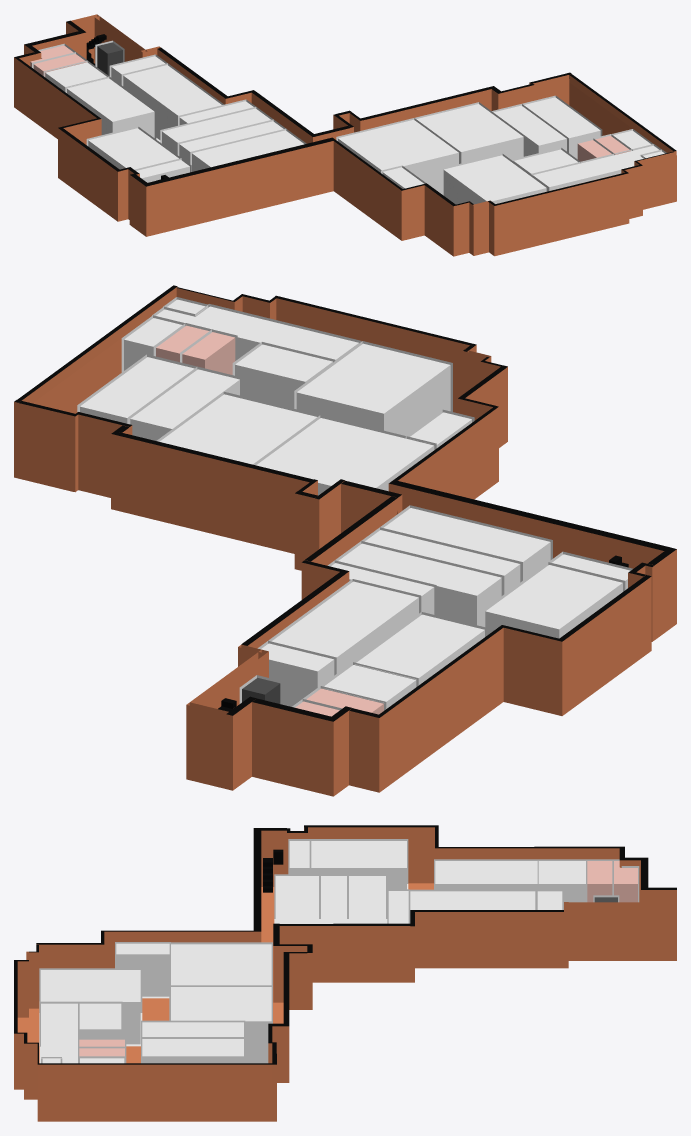
3 renders of one model, top to bottom at view 1: azimuth 30°, elevation 25°; view 2: azimuth 150°, elevation 25°; view 3: azimuth 270°, elevation 25°, orthographic. The views are drawn at different scales.
Parts seen in each view (by area): view 1: object, room_1_B1_3, room_1_B1_4, room_1_B1_5, room_1_B1_19, room_1_B1_11, room_1_B1_15, room_1_B1_1, room_1_B1_12, room_1_B1_2, room_1_B1_6, room_1_B1_17 (+10 smaller); view 2: object, room_1_B1_5, room_1_B1_3, room_1_B1_19, room_1_B1_15, room_1_B1_4, room_1_B1_17, room_1_B1_11, room_1_B1_12, room_1_B1_1, room_1_B1_9, room_1_B1_8 (+11 smaller); view 3: object, room_1_B1_4, room_1_B1_3, room_1_B1_5, room_1_B1_15, room_1_B1_11, room_1_B1_2, room_1_B1_19, room_1_B1_13, room_1_B1_1, room_1_B1_12, room_1_B1_17 (+12 smaller).
Part boxes in pixels (x1,y1,x2,y2): object: (14, 14, 676, 256); room_1_B1_3: (338, 119, 458, 193); room_1_B1_4: (416, 104, 523, 163); room_1_B1_5: (443, 155, 546, 204); room_1_B1_19: (123, 65, 221, 139); room_1_B1_11: (67, 78, 154, 137); room_1_B1_15: (88, 128, 178, 169); room_1_B1_1: (533, 145, 658, 191); room_1_B1_12: (192, 130, 304, 171); room_1_B1_2: (524, 97, 600, 157); room_1_B1_6: (493, 105, 566, 156); room_1_B1_17: (162, 108, 270, 154); object: (14, 285, 676, 796); room_1_B1_5: (296, 343, 450, 435); room_1_B1_3: (256, 418, 434, 495); room_1_B1_19: (271, 581, 418, 673); room_1_B1_15: (485, 565, 622, 638); room_1_B1_4: (159, 394, 317, 464); room_1_B1_17: (338, 543, 501, 626); room_1_B1_11: (354, 614, 484, 686); room_1_B1_12: (384, 508, 550, 580); room_1_B1_1: (156, 306, 358, 360); room_1_B1_9: (261, 563, 434, 706); room_1_B1_8: (235, 344, 332, 408); object: (14, 825, 676, 1121); room_1_B1_4: (171, 987, 271, 1063); room_1_B1_3: (171, 944, 271, 985); room_1_B1_5: (40, 970, 140, 1044); room_1_B1_15: (311, 841, 406, 889); room_1_B1_11: (435, 861, 537, 889); room_1_B1_2: (142, 1039, 243, 1063); room_1_B1_19: (410, 891, 535, 909); room_1_B1_13: (116, 943, 169, 996); room_1_B1_1: (41, 1003, 77, 1063); room_1_B1_12: (275, 876, 318, 923); room_1_B1_17: (349, 876, 385, 923).
Bounding box in the file's own units: 2.22 × 0.2452 × 2.59.
